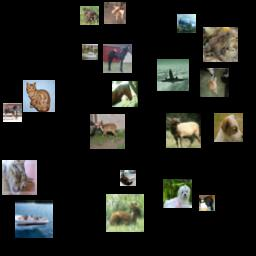airplane: (157, 59, 189, 91), (177, 14, 196, 33)
automobile: (120, 170, 136, 186)
cat: (2, 160, 37, 195), (23, 80, 55, 112), (200, 68, 229, 97)
deer: (106, 194, 144, 232), (166, 113, 201, 148), (90, 114, 125, 149), (104, 2, 126, 24)
dog: (163, 179, 192, 208), (214, 113, 243, 142), (199, 195, 215, 211)
frog: (203, 27, 238, 62), (80, 6, 99, 25)
ship: (15, 200, 53, 238), (82, 44, 98, 60)
